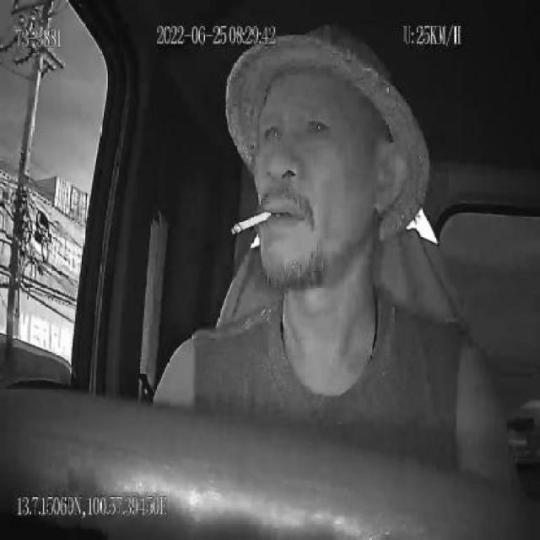smoking: (230, 209, 272, 237)
